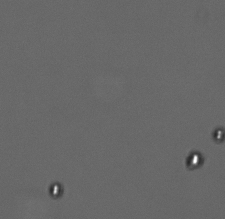Living Cell: (184, 149, 204, 169), (49, 182, 64, 199), (212, 127, 224, 143)
